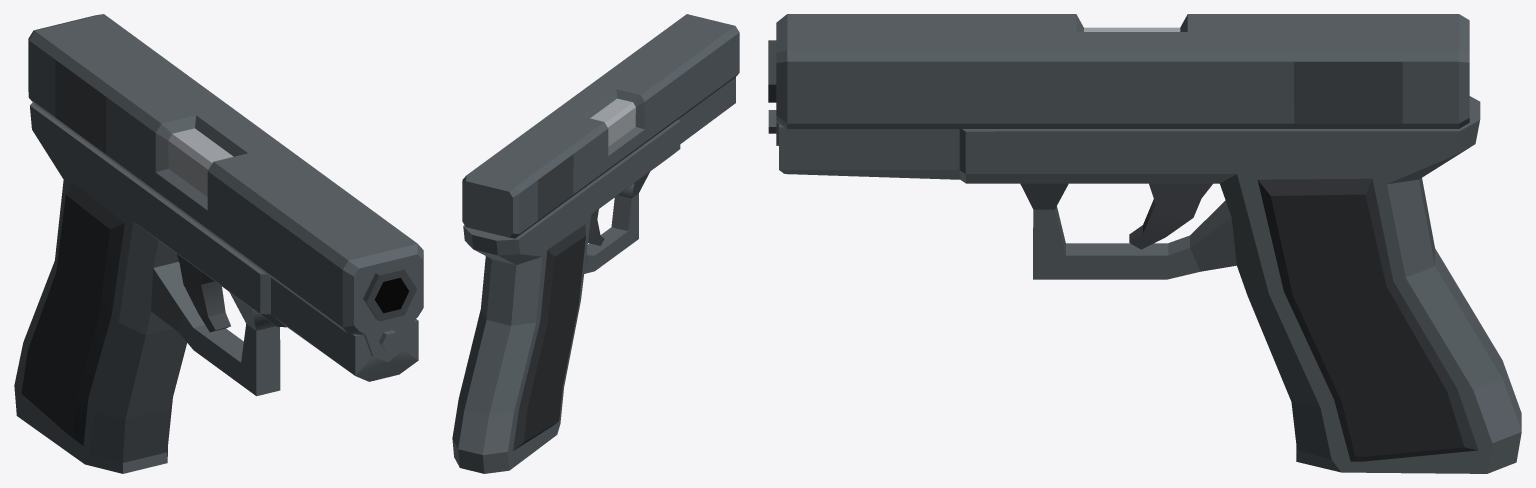
The model's file is SM_Icon_Gun_01.fbx.
3 views of the same model, side by side, from view 1: azimuth 30°, elevation 25°; view 2: azimuth 150°, elevation 25°; view 3: azimuth 270°, elevation 25° (orthographic). The views are drawn at different scales.
Visible parts, largest first — view 1: SM_Icon_Gun_01; view 2: SM_Icon_Gun_01; view 3: SM_Icon_Gun_01.
Part boxes in pixels (x1,y1,x2,y2): SM_Icon_Gun_01: (14,14,423,473); SM_Icon_Gun_01: (452,14,739,473); SM_Icon_Gun_01: (768,14,1521,473).
Size of the model in its own units: 10.1 by 40.15 by 65.1.
